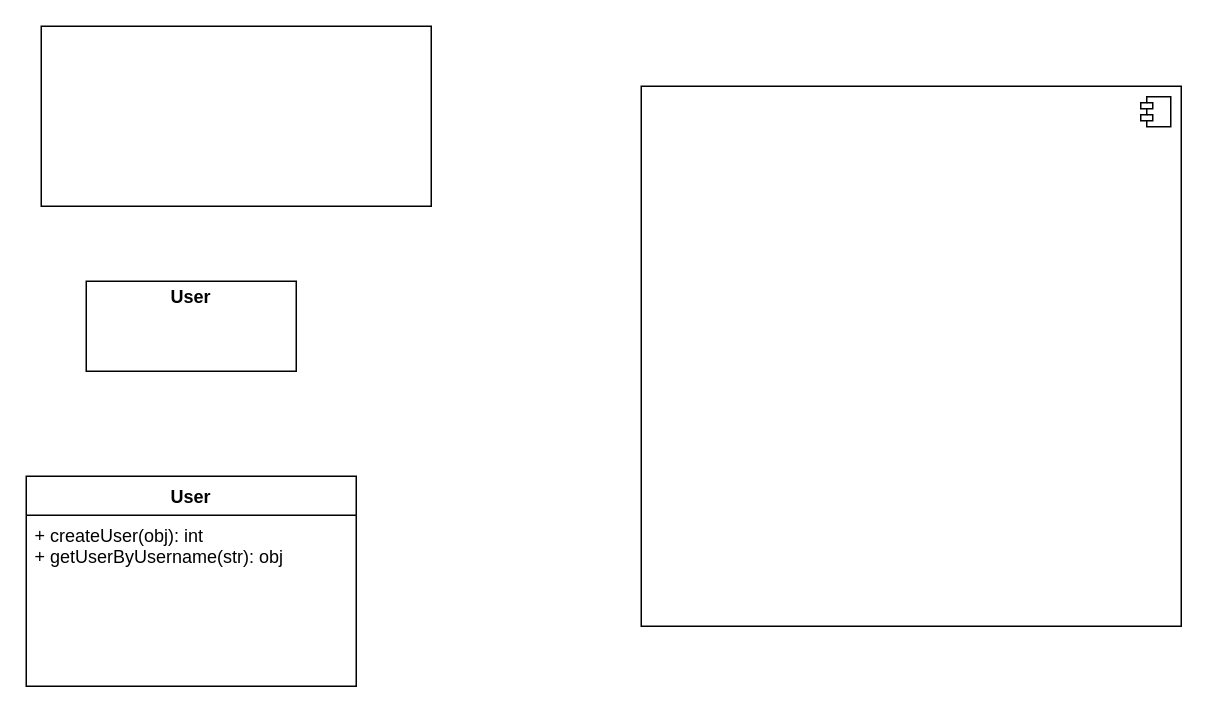
The diagram is 1208 pixels wide and 717 high, and some of its shapes have lost their labels. The shapes that lost their labels are listed below. From the top down, each one's centre as x and y in pixels, then its label:
At (235,115): "users PK id username email password_hash name".
At (910,355): "«Users» Component".
